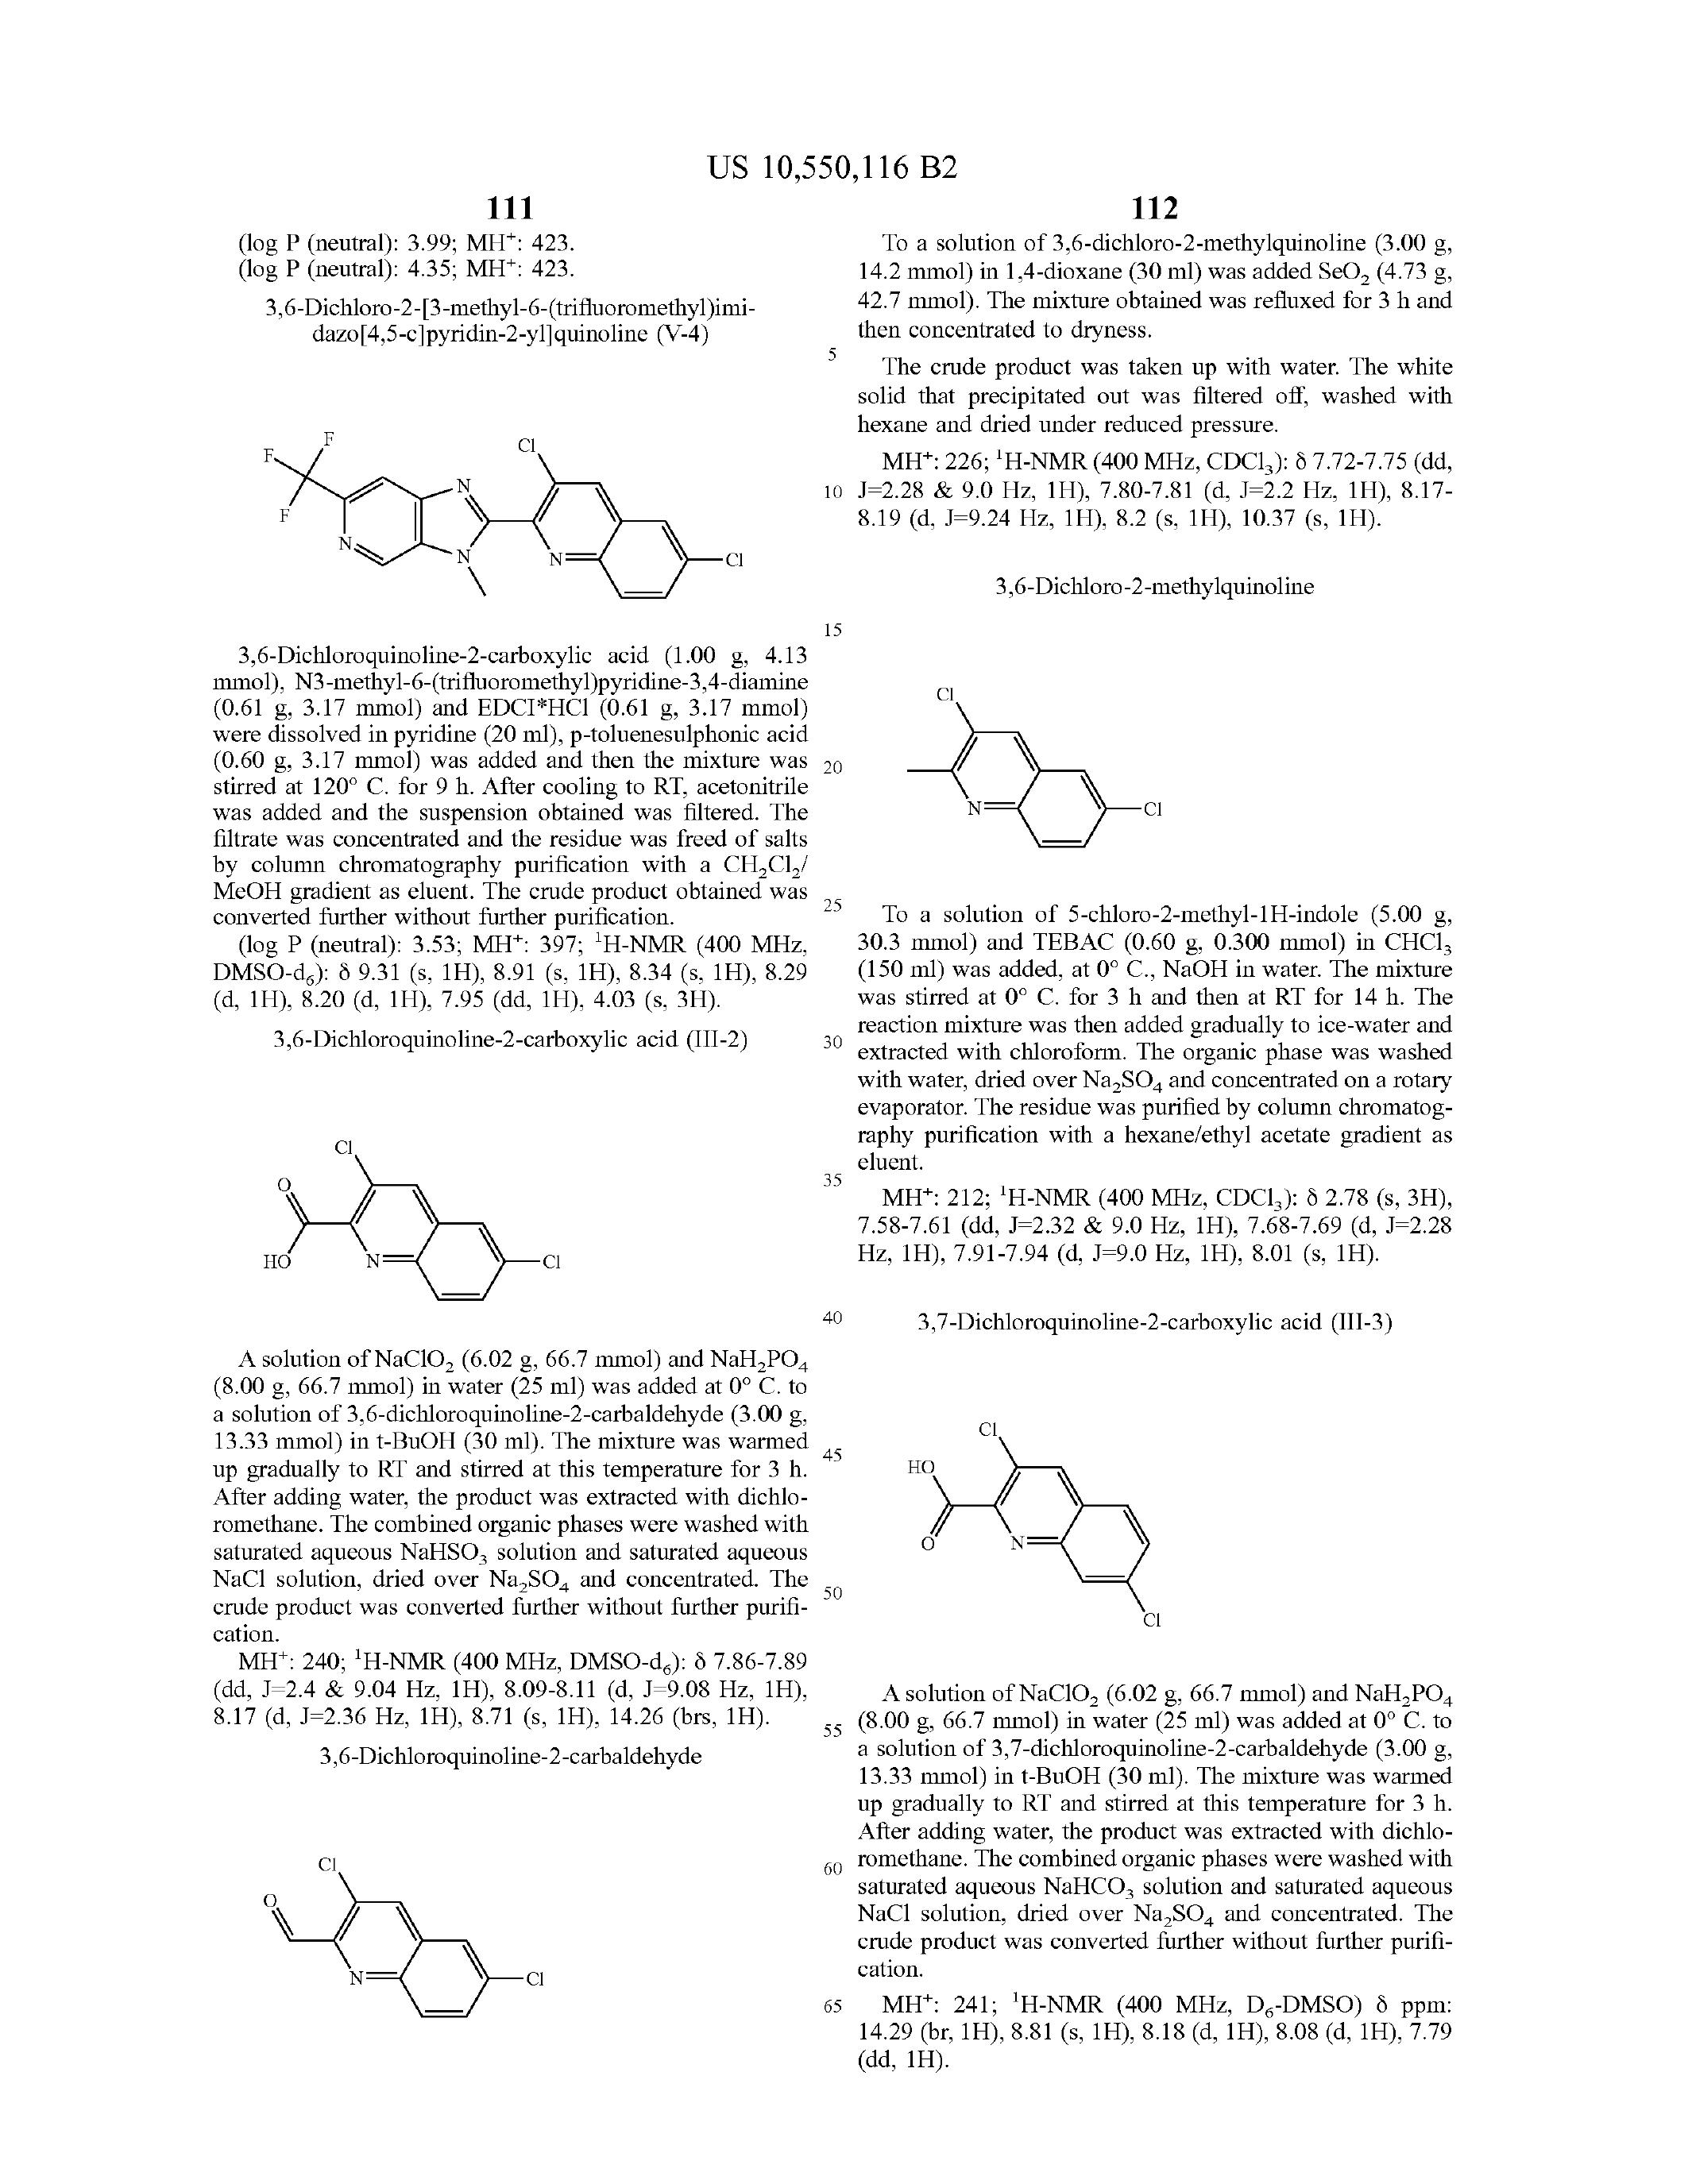intermediates: (202, 1090, 651, 1344), (865, 1367, 1264, 1645), (207, 1821, 619, 2083), (878, 631, 1227, 874)
relevant-structures: (238, 356, 793, 626)
